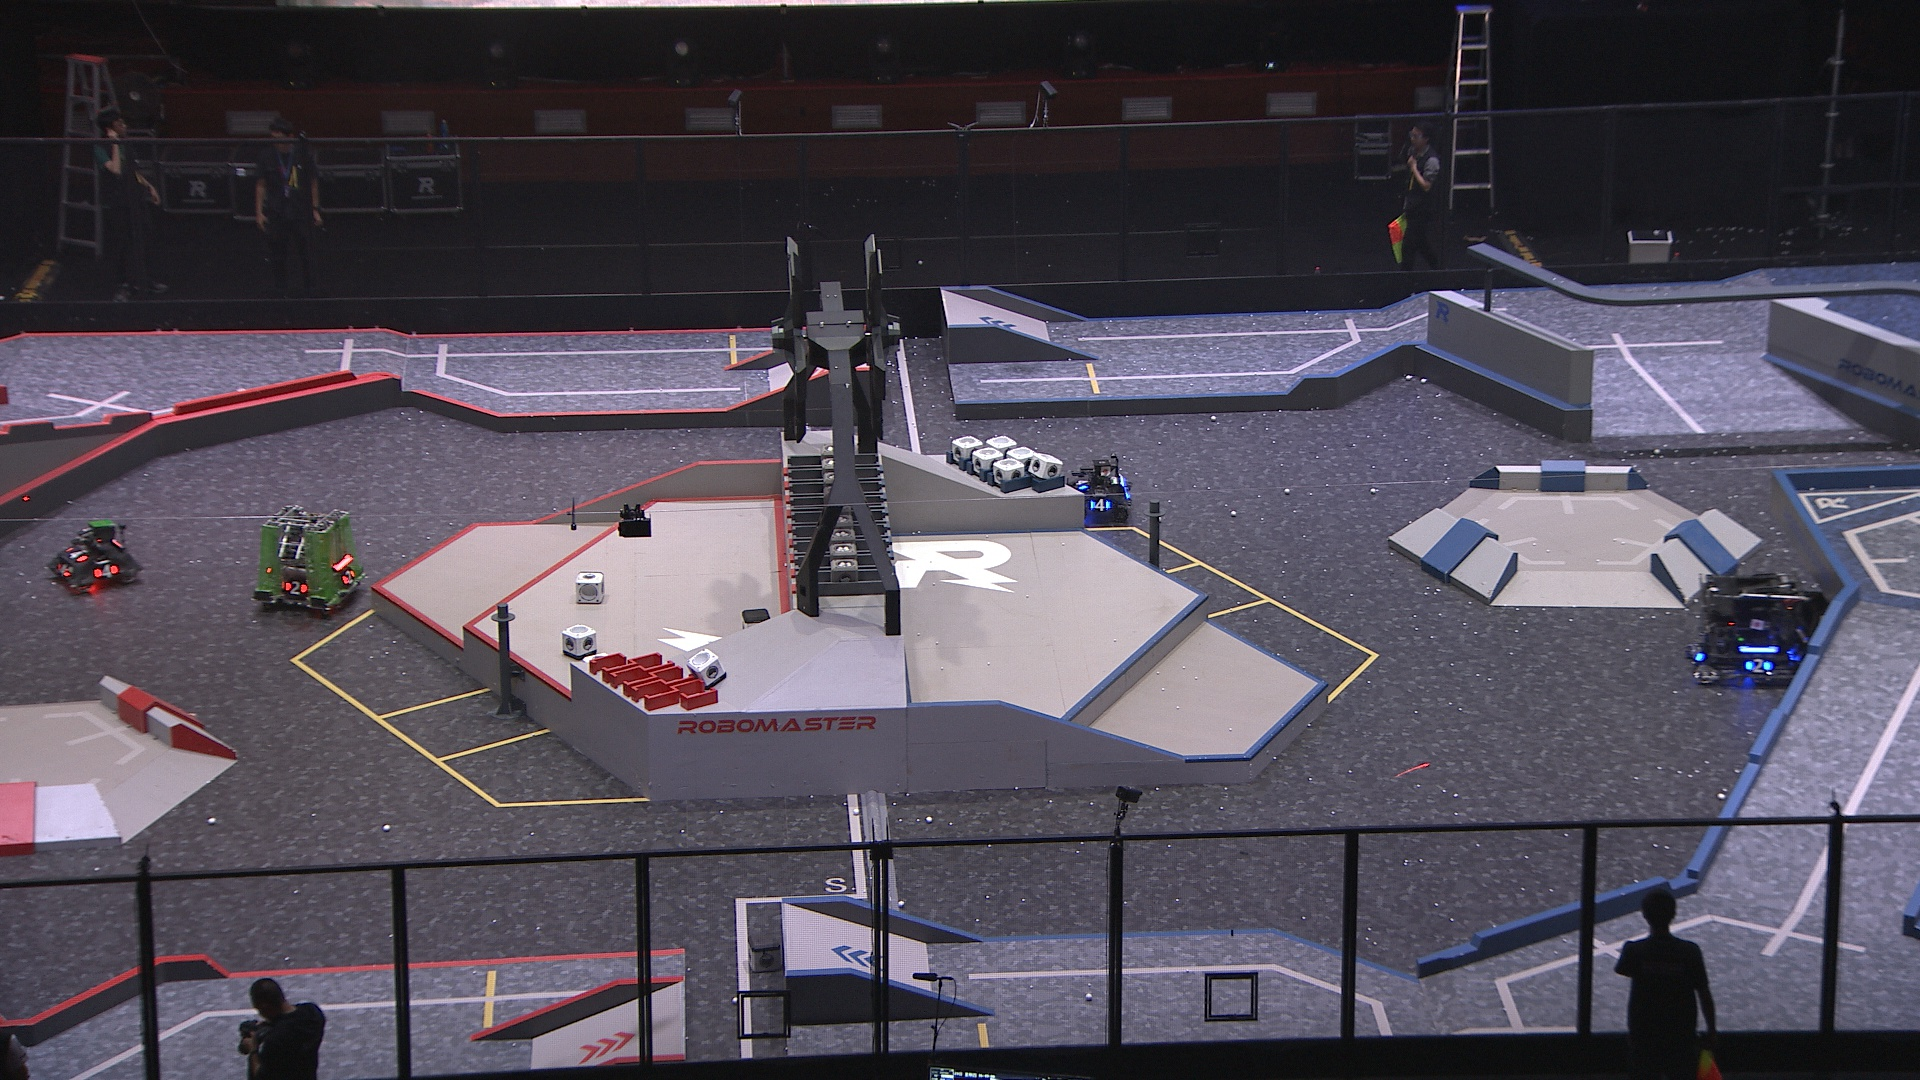armor: (1743, 657, 1775, 675), (94, 562, 121, 580), (284, 579, 310, 597), (65, 546, 88, 564), (54, 560, 74, 580), (1692, 644, 1708, 662), (1091, 498, 1112, 512), (342, 568, 357, 585), (1076, 476, 1091, 493)
car: (1691, 570, 1812, 690), (251, 502, 371, 617), (49, 518, 146, 593), (1064, 455, 1135, 526)
